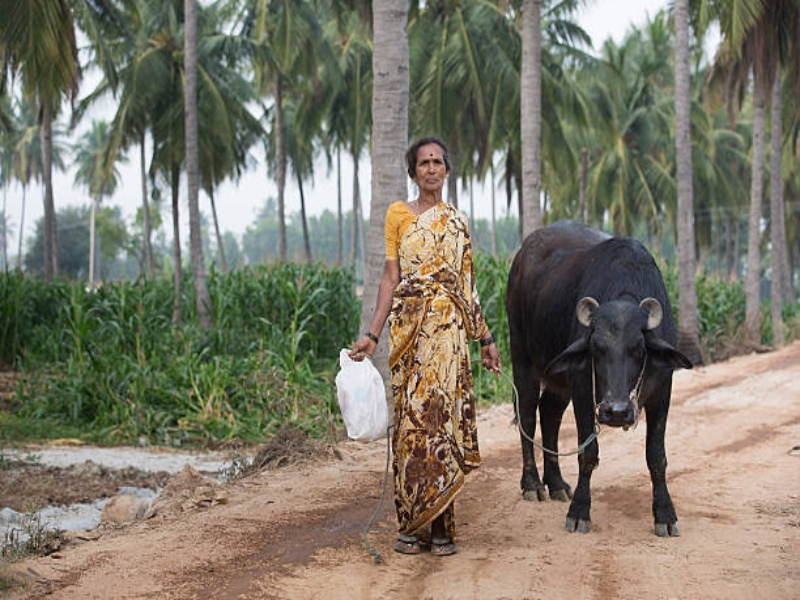buffalo: (502, 213, 700, 542)
